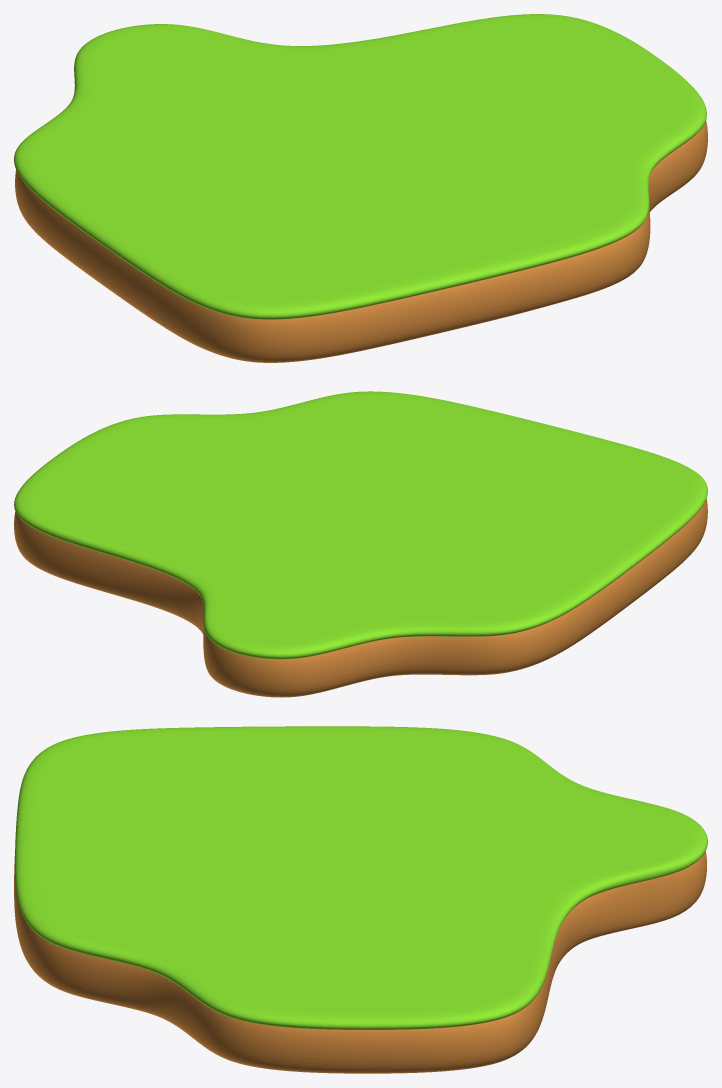
File: OBJECT-GAME.fbx
3 views of the same model, one above another, from view 1: azimuth 30°, elevation 25°; view 2: azimuth 150°, elevation 25°; view 3: azimuth 270°, elevation 25° (orthographic). The views are drawn at different scales.
Visible parts, largest first — view 1: Plane.001, Plane; view 2: Plane.001, Plane; view 3: Plane.001, Plane.
Boxes of the visible parts, box(x1,y1,x2,y2) form: Plane.001: box(14, 14, 706, 319); Plane: box(15, 120, 707, 362); Plane.001: box(14, 391, 707, 659); Plane: box(14, 499, 707, 697); Plane.001: box(15, 726, 707, 1029); Plane: box(14, 851, 706, 1073).
Bounding box in the file's own units: 217 × 20.04 × 213.
